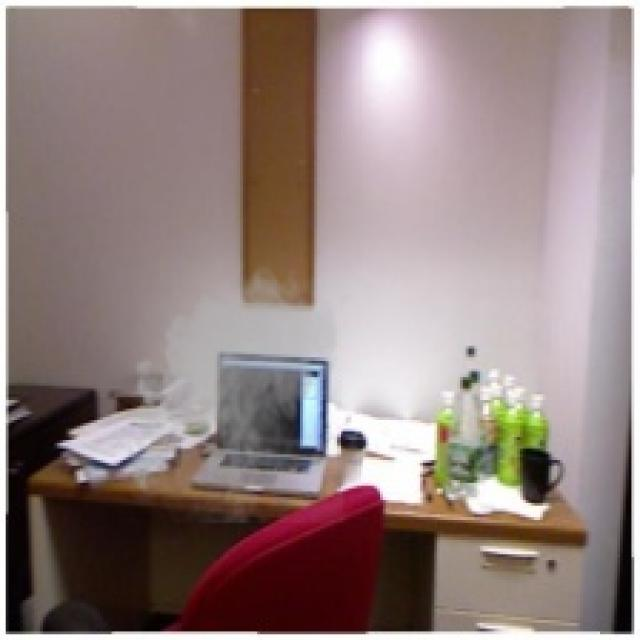smoke: (120, 257, 346, 523)
